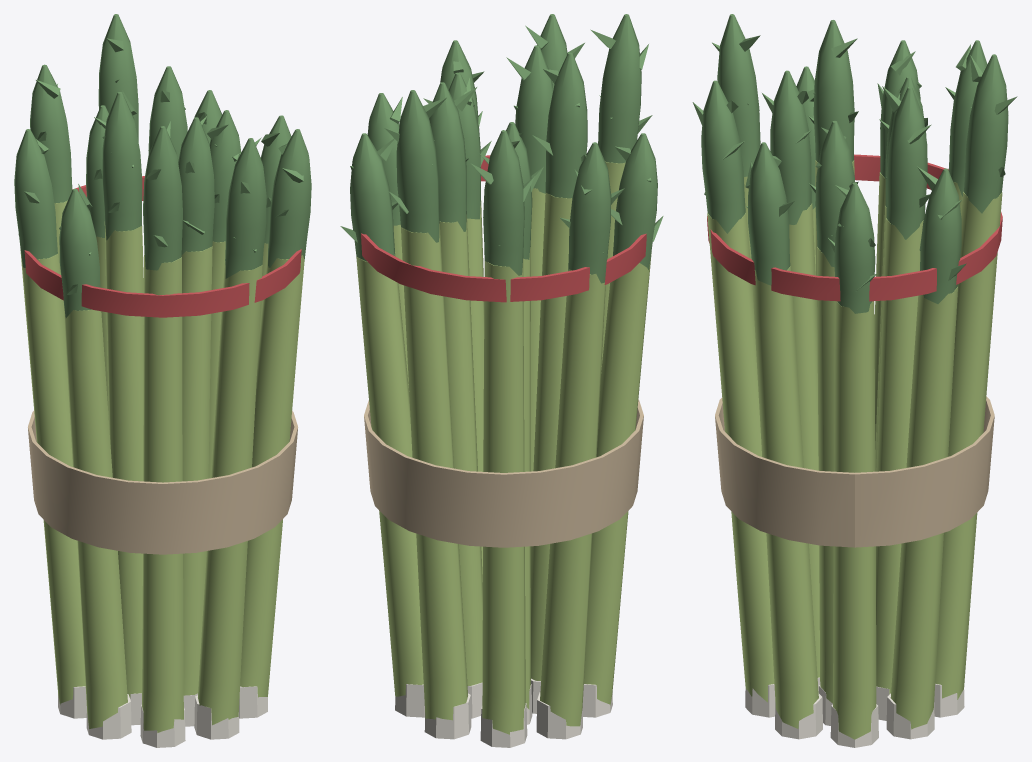
The model's file is fresh-produce-and-groceries-asparagus-bunch-6e402943__24385.glb.
3 views of the same model, side by side, from view 1: azimuth 30°, elevation 25°; view 2: azimuth 150°, elevation 25°; view 3: azimuth 270°, elevation 25° (orthographic). The views are drawn at different scales.
Parts seen in each view (by area): view 1: asparagus-bunch; view 2: asparagus-bunch; view 3: asparagus-bunch.
Part boxes in pixels (x1,y1,x2,y2): asparagus-bunch: (14,14,311,747); asparagus-bunch: (340,14,663,747); asparagus-bunch: (692,14,1017,747).
Size of the model in its own units: 0.0971 by 0.225 by 0.1011.
